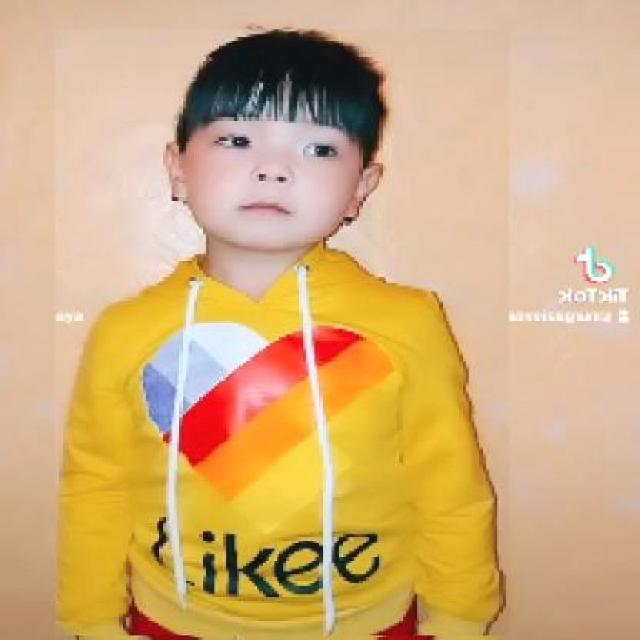child: (54, 29, 509, 637)
